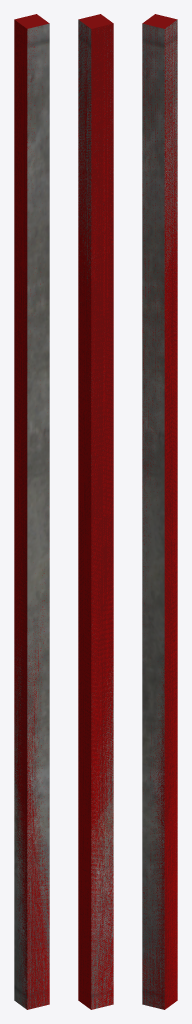
Rendered from SciFi_wall_corner.DAE.
3 renders of one model, left to right at view 1: azimuth 30°, elevation 25°; view 2: azimuth 210°, elevation 25°; view 3: azimuth 330°, elevation 25°, orthographic.
Parts seen in each view (by area): view 1: wall_corner, colbox-01, bounds; view 2: bounds, colbox-01, wall_corner; view 3: wall_corner, colbox-01, bounds.
Part boxes in pixels (x1,y1,x2,y2): wall_corner: (14, 23, 49, 1009); colbox-01: (14, 20, 49, 1009); bounds: (14, 14, 49, 1009); bounds: (78, 14, 113, 1008); colbox-01: (78, 21, 113, 1009); wall_corner: (78, 20, 113, 1009); wall_corner: (142, 20, 177, 1009); colbox-01: (142, 23, 177, 1009); bounds: (142, 14, 177, 1009).
Size of the model in its own units: 24 by 24 by 1000.
